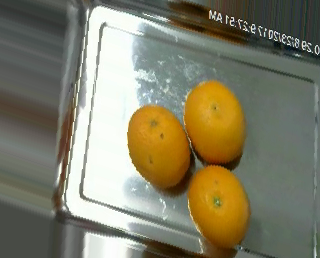Orange: (127, 103, 191, 188), (187, 165, 250, 249), (183, 79, 244, 163)
